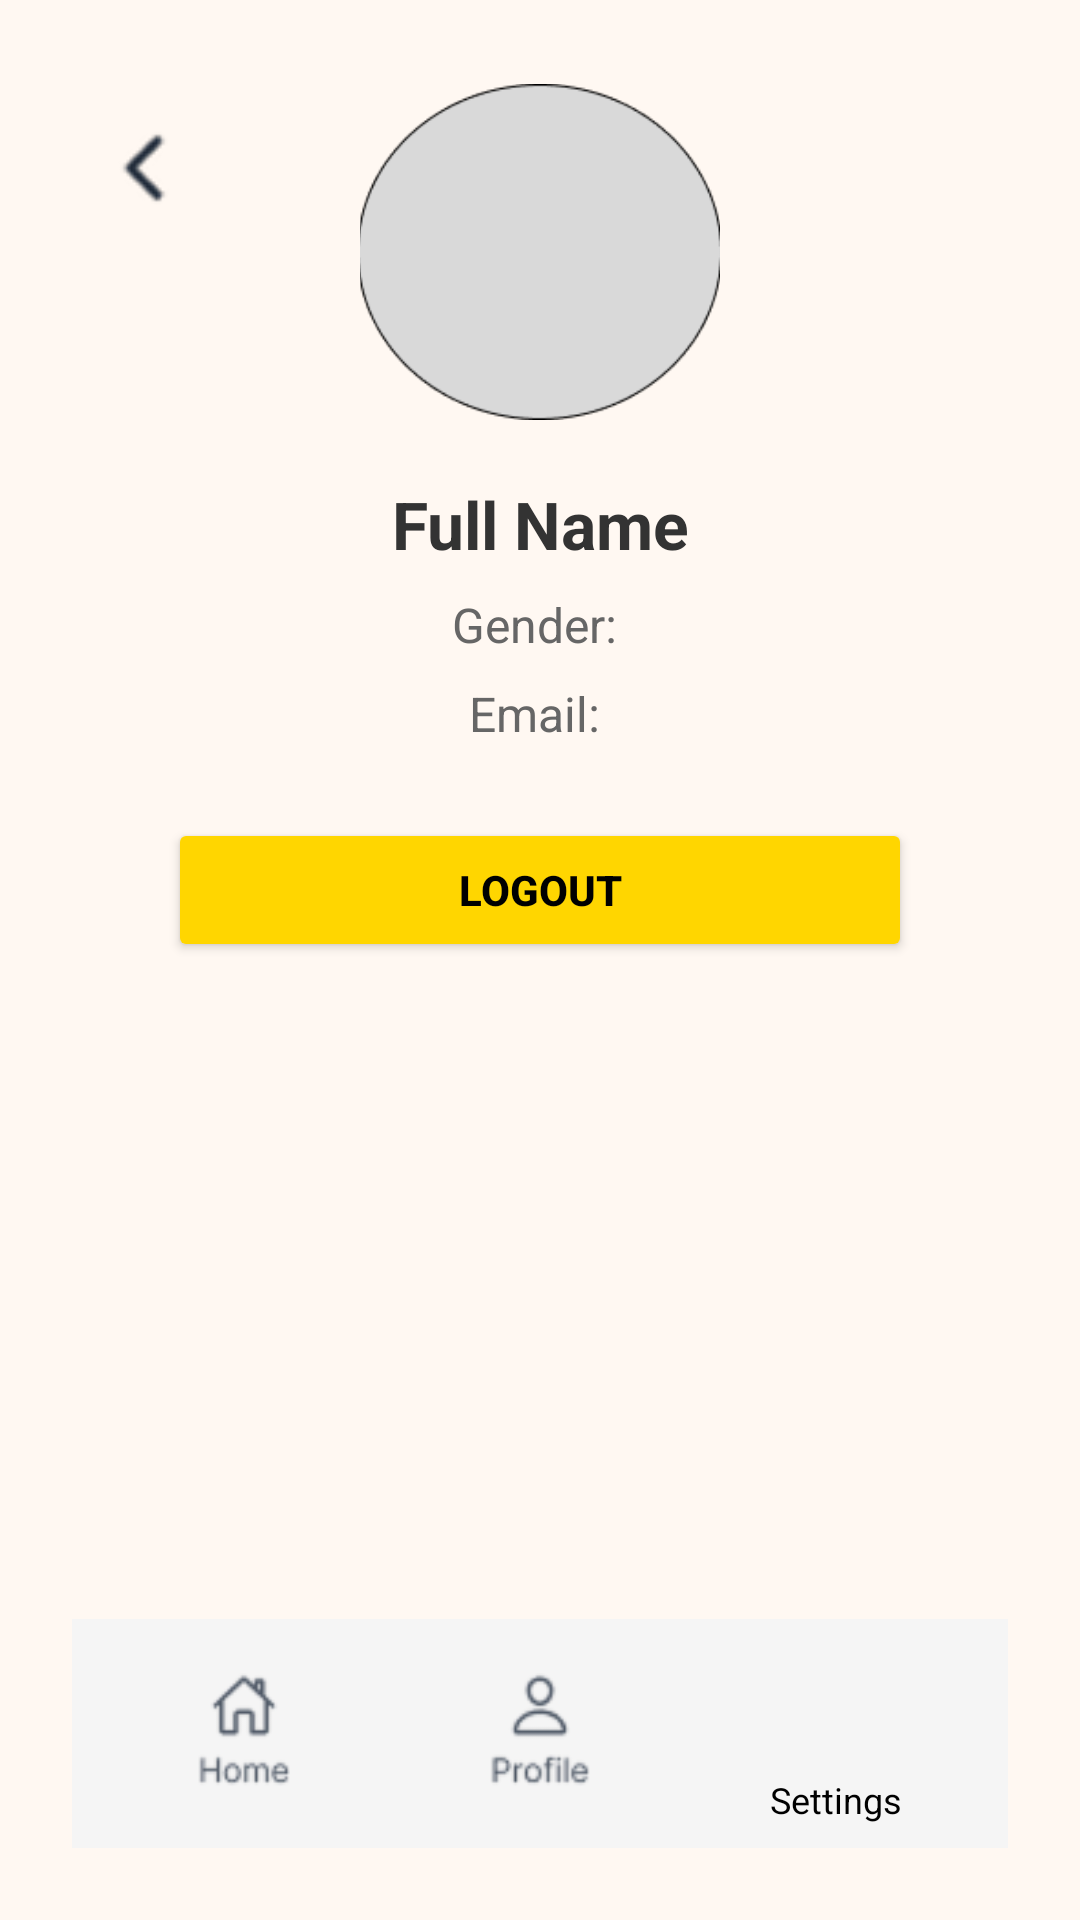

Icons on this 1080px x 1920px Android screen, each with its box as (x1, y1, x2, y2):
Back: (123, 134, 165, 202)
